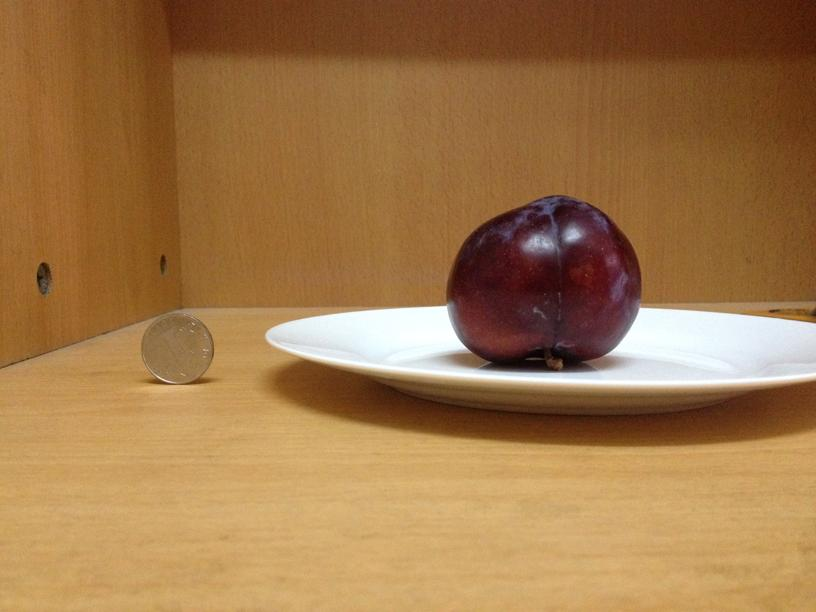coin: (135, 316, 216, 385)
plum: (439, 194, 646, 367)
